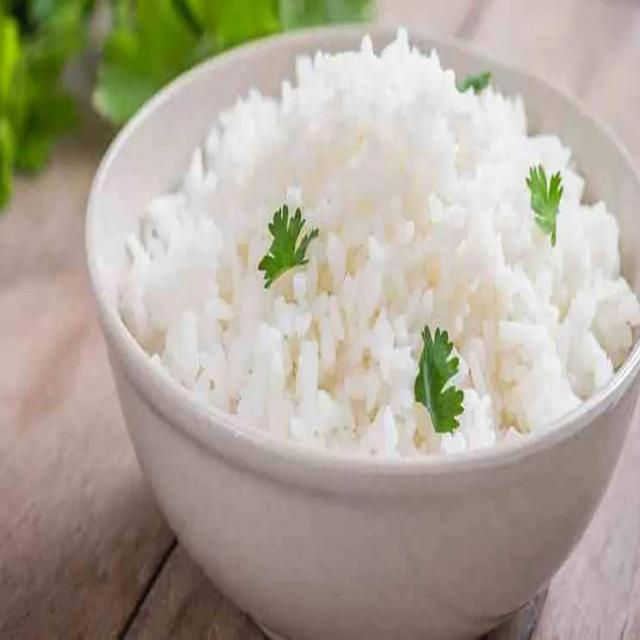arroz: (98, 46, 634, 520)
